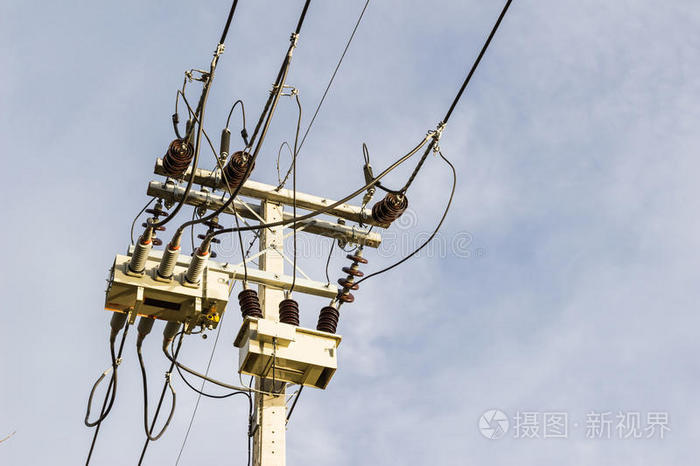insulator: (336, 255, 371, 300), (160, 140, 198, 175), (219, 153, 257, 185), (193, 221, 224, 257), (372, 193, 409, 223), (141, 208, 170, 245)
